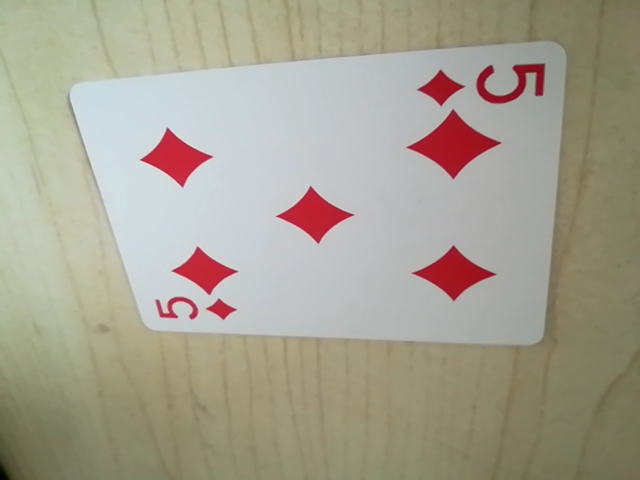fk 5: (416, 56, 547, 113), (150, 291, 244, 331)
